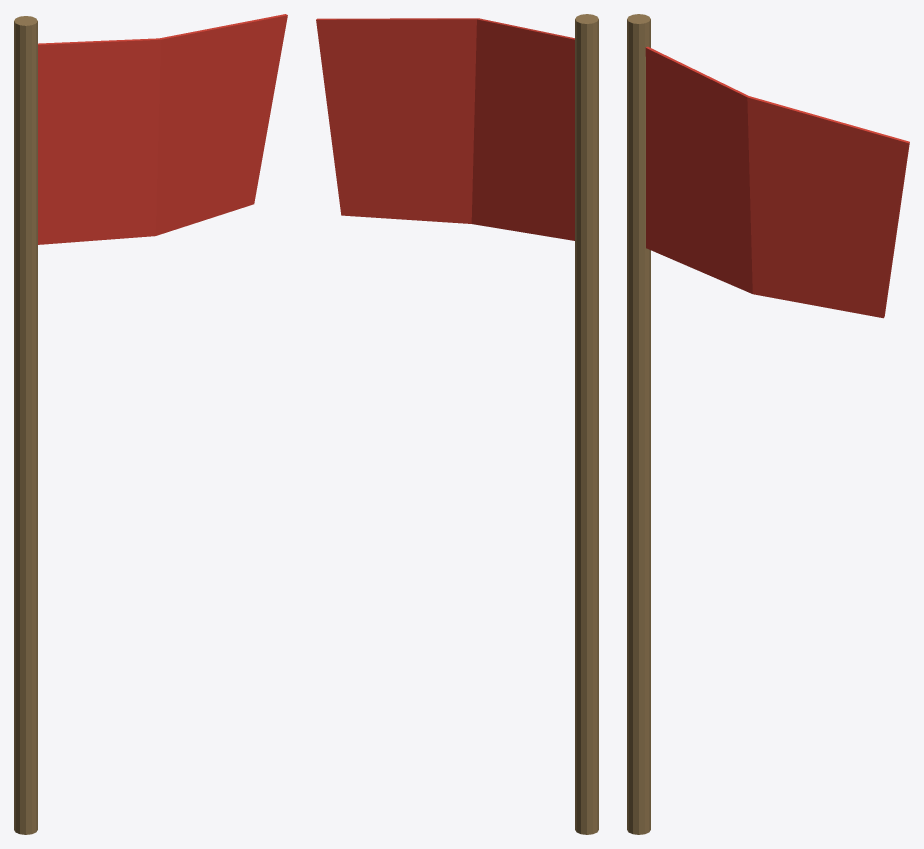
The model's file is exit_flag.glb.
3 renders of one model, left to right at view 1: azimuth 30°, elevation 25°; view 2: azimuth 150°, elevation 25°; view 3: azimuth 330°, elevation 25°, orthographic.
Parts seen in each view (by area): view 1: RedCloth, WoodPole; view 2: RedCloth, WoodPole; view 3: RedCloth, WoodPole.
Boxes of the visible parts, left/top/right/bottom form: RedCloth: left=38, top=14, right=287, bottom=244; WoodPole: left=14, top=16, right=37, bottom=834; RedCloth: left=316, top=18, right=574, bottom=240; WoodPole: left=575, top=14, right=598, bottom=834; RedCloth: left=645, top=46, right=909, bottom=318; WoodPole: left=627, top=14, right=650, bottom=834.
Bounding box in the file's own units: 0.7497 × 2.1 × 0.108.
